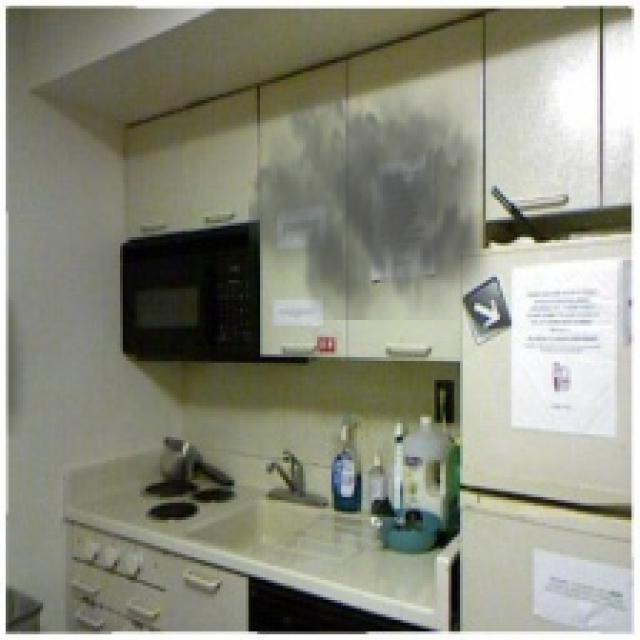Smoke: (248, 66, 501, 320)
